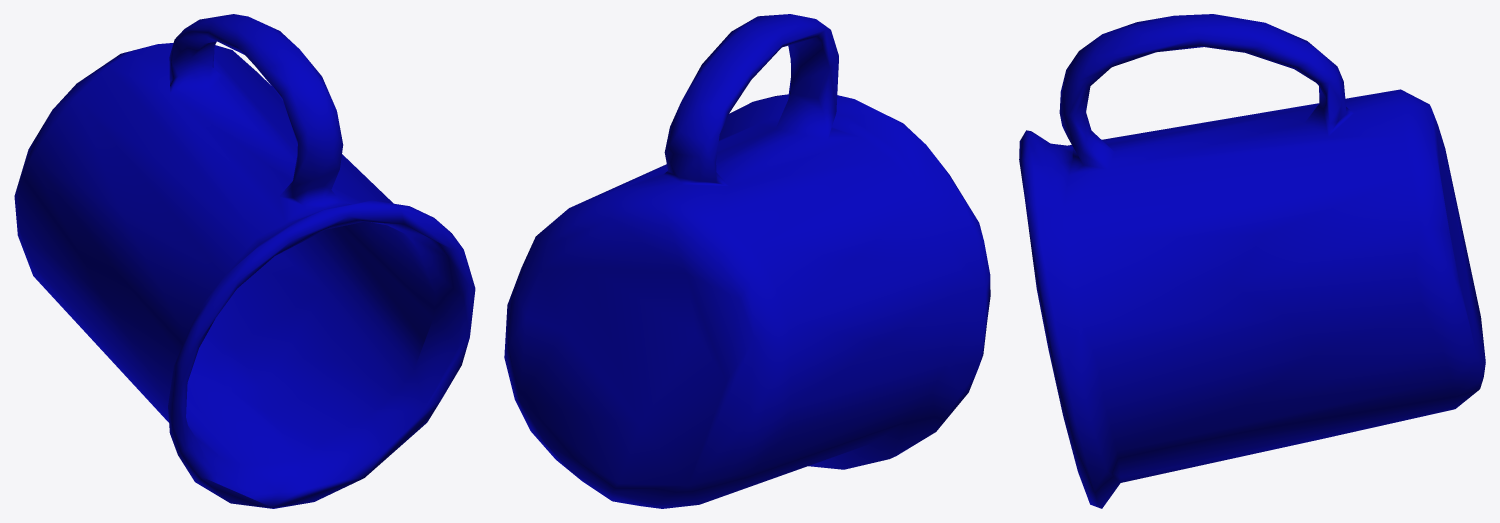
The model's file is mug3_2.dae.
3 renders of one model, left to right at view 1: azimuth 30°, elevation 25°; view 2: azimuth 150°, elevation 25°; view 3: azimuth 270°, elevation 25°, orthographic. The views are drawn at different scales.
Visible parts, largest first — view 1: RedCup_800_tex; view 2: RedCup_800_tex; view 3: RedCup_800_tex.
Boxes of the visible parts, <box> form: RedCup_800_tex: <box>14,14,475,508</box>; RedCup_800_tex: <box>504,14,990,508</box>; RedCup_800_tex: <box>1019,14,1485,508</box>.
Size of the model in its own units: 0.0366 by 0.045 by 0.0501.
